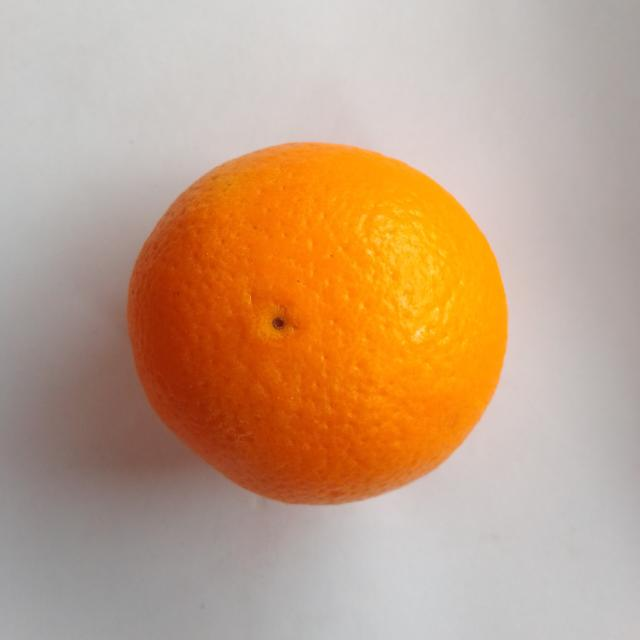orange: (128, 144, 507, 503)
